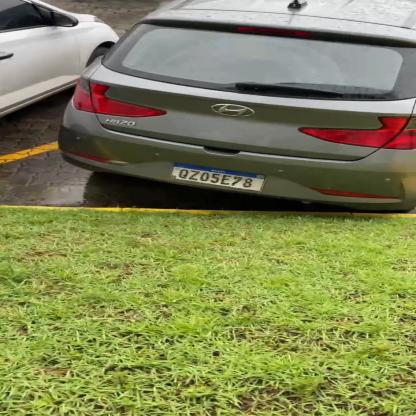Plate: (168, 158, 269, 194)
